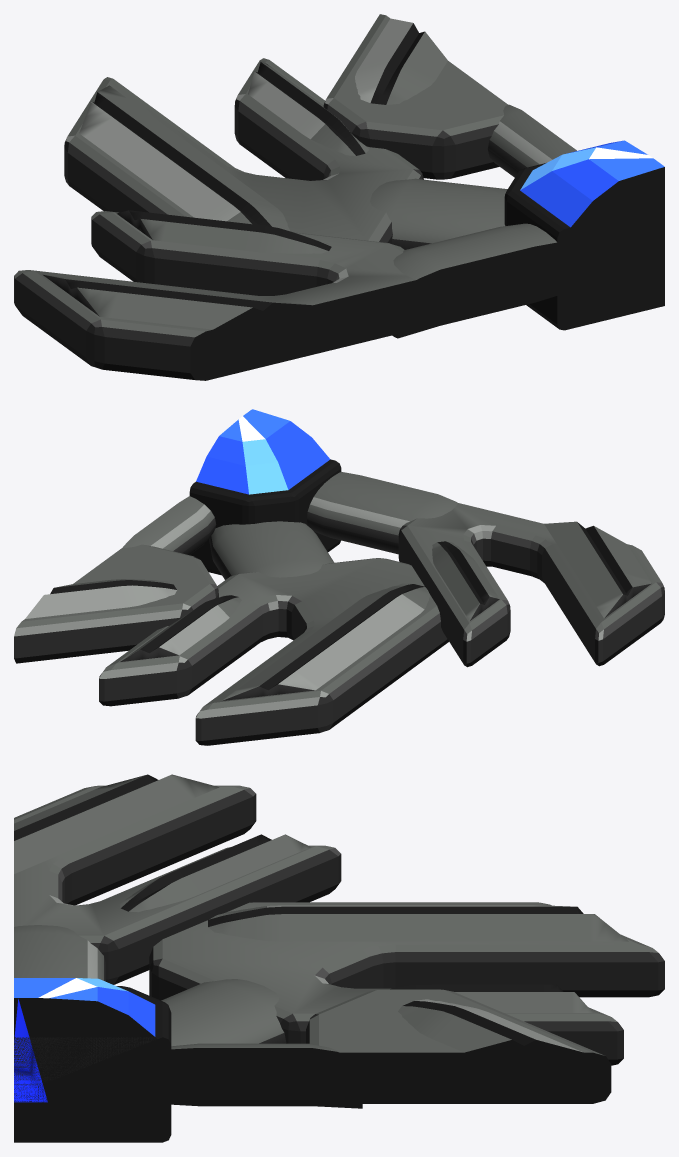
Rendered from dark_saw_157.glb.
The picture shows the model from 3 angles, top to bottom: view 1: azimuth 30°, elevation 25°; view 2: azimuth 150°, elevation 25°; view 3: azimuth 270°, elevation 25°; orthographic projection. The views are drawn at different scales.
Parts seen in each view (by area): view 1: dark_saw_157_arm3_plate, dark_saw_157_under3_plate, dark_saw_157_arm0_plate, dark_saw_157_arm3_rod, dark_saw_157_gem, dark_saw_157_under3_ridge0, dark_saw_157_gem_bezel, dark_saw_157_arm3_ridge0, dark_saw_157_under3_rod, dark_saw_157_arm0_ridge0, dark_saw_157_arm3_ridge1, dark_saw_157_under3_ridge1 (+1 smaller); view 2: dark_saw_157_under3_plate, dark_saw_157_arm3_plate, dark_saw_157_arm0_plate, dark_saw_157_under3_ridge0, dark_saw_157_gem, dark_saw_157_arm3_rod, dark_saw_157_under3_rod, dark_saw_157_arm3_ridge0, dark_saw_157_gem_bezel, dark_saw_157_arm0_ridge0, dark_saw_157_arm0_rod, dark_saw_157_under3_ridge1 (+1 smaller); view 3: dark_saw_157_under3_plate, dark_saw_157_arm3_plate, dark_saw_157_arm0_plate, dark_saw_157_gem_bezel, dark_saw_157_gem, dark_saw_157_under3_ridge0, dark_saw_157_arm0_rod, dark_saw_157_arm3_ridge0, dark_saw_157_under3_rod, dark_saw_157_arm0_ridge0, dark_saw_157_arm3_ridge1, dark_saw_157_arm3_rod (+1 smaller).
Part boxes in pixels (x1,y1,x2,y2): dark_saw_157_arm3_plate: [14, 211, 444, 380]; dark_saw_157_under3_plate: [64, 58, 423, 243]; dark_saw_157_arm0_plate: [323, 14, 507, 179]; dark_saw_157_arm3_rod: [392, 223, 596, 338]; dark_saw_157_gem: [520, 140, 664, 268]; dark_saw_157_under3_ridge0: [79, 85, 289, 230]; dark_saw_157_gem_bezel: [504, 163, 664, 330]; dark_saw_157_arm3_ridge0: [43, 274, 322, 340]; dark_saw_157_under3_rod: [370, 178, 507, 249]; dark_saw_157_arm0_ridge0: [355, 18, 447, 104]; dark_saw_157_arm3_ridge1: [116, 210, 331, 253]; dark_saw_157_under3_ridge1: [248, 62, 368, 155]; dark_saw_157_under3_plate: [99, 558, 448, 745]; dark_saw_157_arm3_plate: [398, 503, 664, 667]; dark_saw_157_arm0_plate: [14, 544, 218, 663]; dark_saw_157_under3_ridge0: [222, 583, 430, 700]; dark_saw_157_gem: [196, 409, 330, 494]; dark_saw_157_arm3_rod: [307, 472, 457, 554]; dark_saw_157_under3_rod: [209, 521, 334, 579]; dark_saw_157_arm3_ridge0: [544, 521, 651, 618]; dark_saw_157_gem_bezel: [189, 459, 341, 575]; dark_saw_157_arm0_ridge0: [25, 579, 176, 618]; dark_saw_157_arm0_rod: [123, 496, 216, 555]; dark_saw_157_under3_ridge1: [120, 595, 241, 661]; dark_saw_157_under3_plate: [149, 902, 664, 1065]; dark_saw_157_arm3_plate: [14, 785, 341, 984]; dark_saw_157_arm0_plate: [306, 989, 611, 1103]; dark_saw_157_gem_bezel: [14, 986, 171, 1142]; dark_saw_157_gem: [14, 978, 158, 1104]; dark_saw_157_under3_ridge0: [208, 905, 628, 941]; dark_saw_157_arm0_rod: [124, 1043, 362, 1108]; dark_saw_157_arm3_ridge0: [14, 774, 219, 873]; dark_saw_157_under3_rod: [161, 979, 286, 1046]; dark_saw_157_arm0_ridge0: [398, 999, 595, 1061]; dark_saw_157_arm3_ridge1: [119, 834, 310, 912]; dark_saw_157_arm3_rod: [14, 925, 105, 981].
Size of the model in its own units: 22.7 by 5.63 by 22.97.
